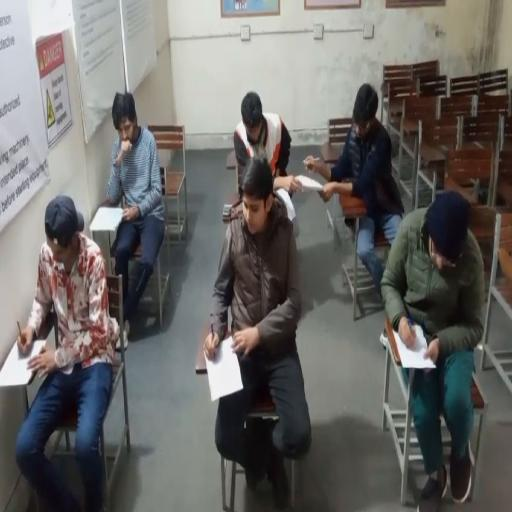paper: (204, 335, 244, 401), (0, 338, 47, 387), (389, 321, 436, 370), (90, 205, 123, 232), (293, 174, 324, 189), (275, 186, 294, 210)
